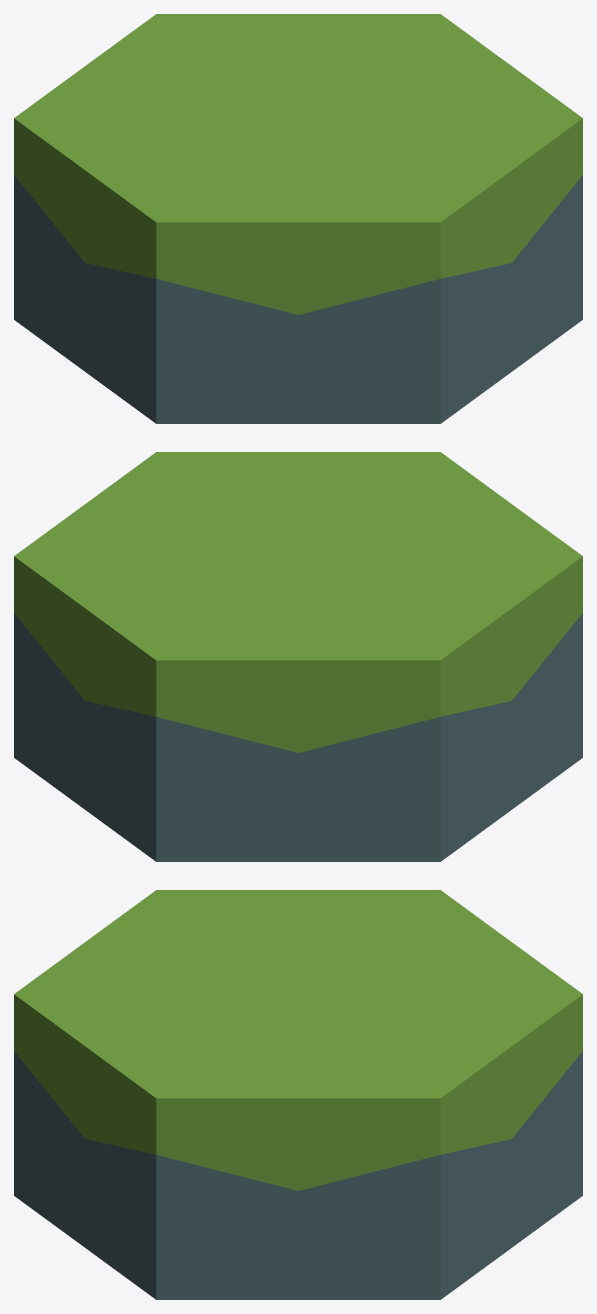
Rendered from dirty2.glb.
3 renders of one model, top to bottom at view 1: azimuth 30°, elevation 25°; view 2: azimuth 150°, elevation 25°; view 3: azimuth 270°, elevation 25°, orthographic.
Visible parts, largest first — view 1: земля.3; view 2: земля.3; view 3: земля.3.
Part boxes in pixels (box(x1,y1,x2,y2)): земля.3: box(14, 14, 582, 423); земля.3: box(14, 452, 582, 861); земля.3: box(14, 890, 582, 1299).
Bounding box in the file's own units: 4.79 × 2.16 × 5.53.
Materials: 1 (1 with a texture image).
